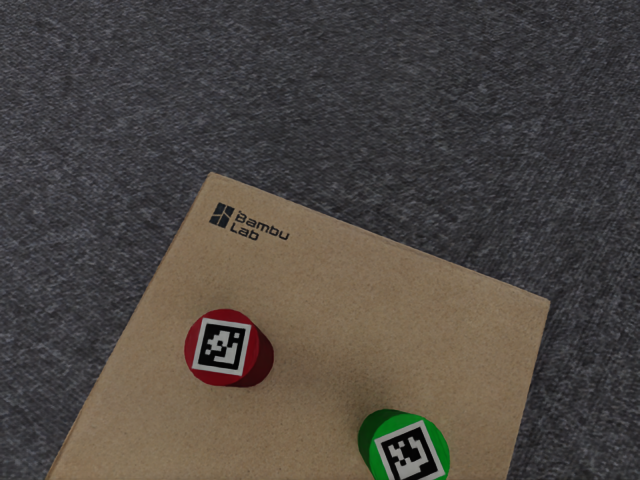puck_green_cyl: (358, 409, 449, 479)
puck_red_cyl: (184, 309, 273, 386)
